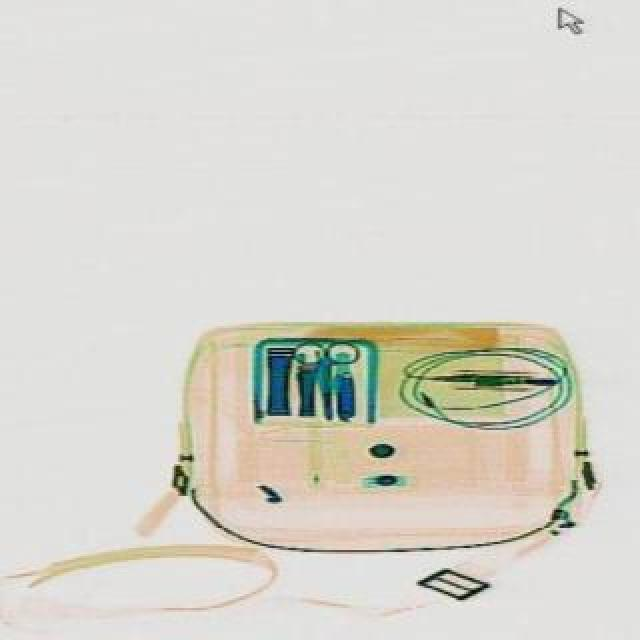pliers: (290, 338, 360, 422)
